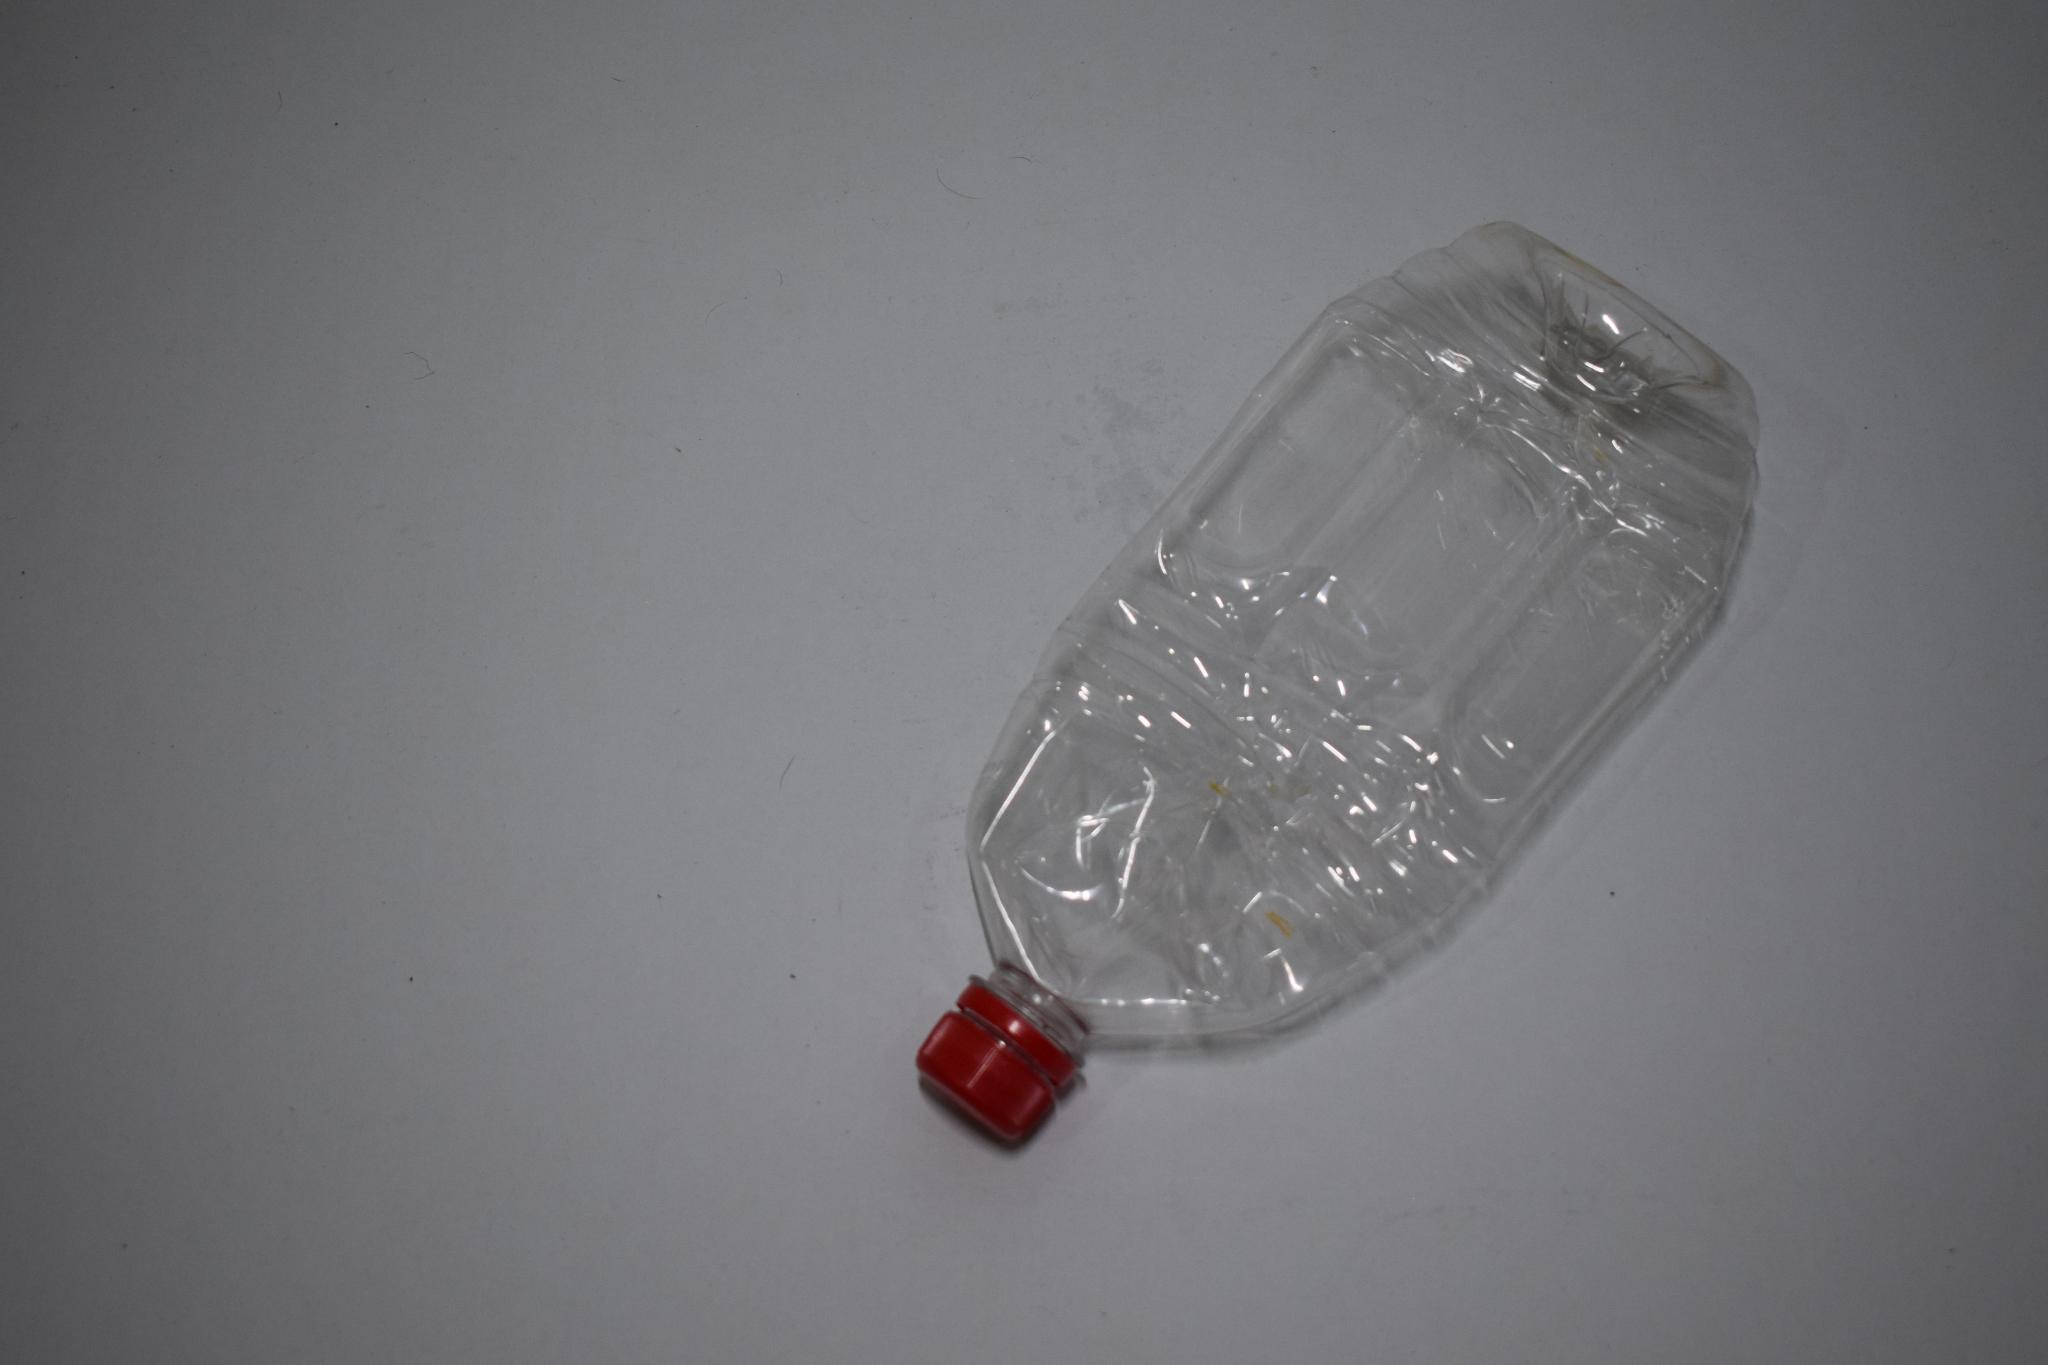bottle: (911, 207, 1774, 1161)
